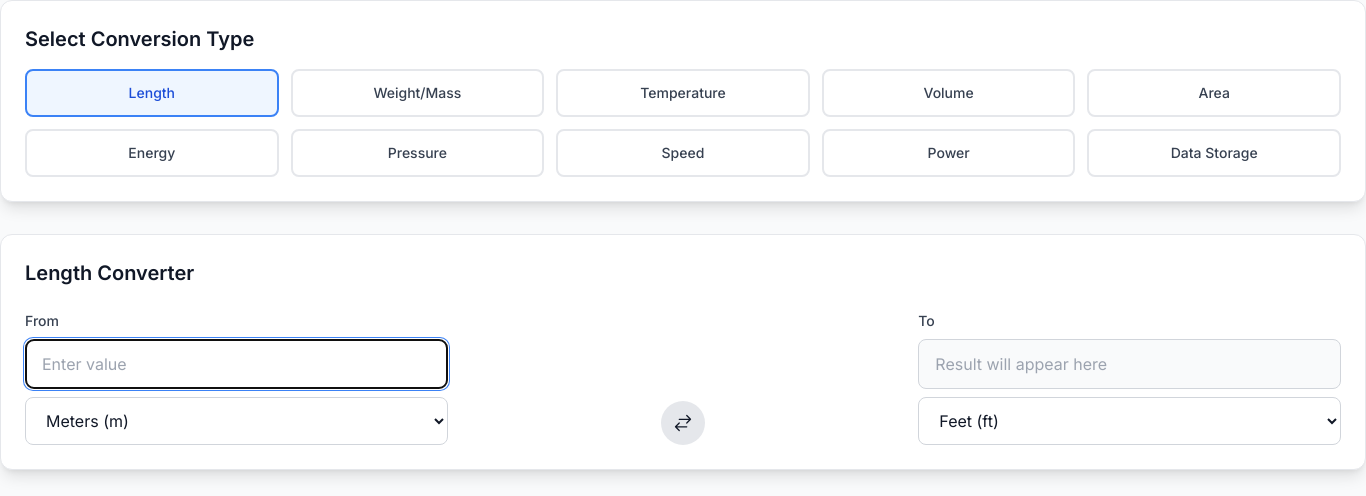
Scenario: UnitConverter Component › updates units when category changes
Switch to temperature category
Click the button "Temperature" at (683, 93), box 556,69 -> 810,117
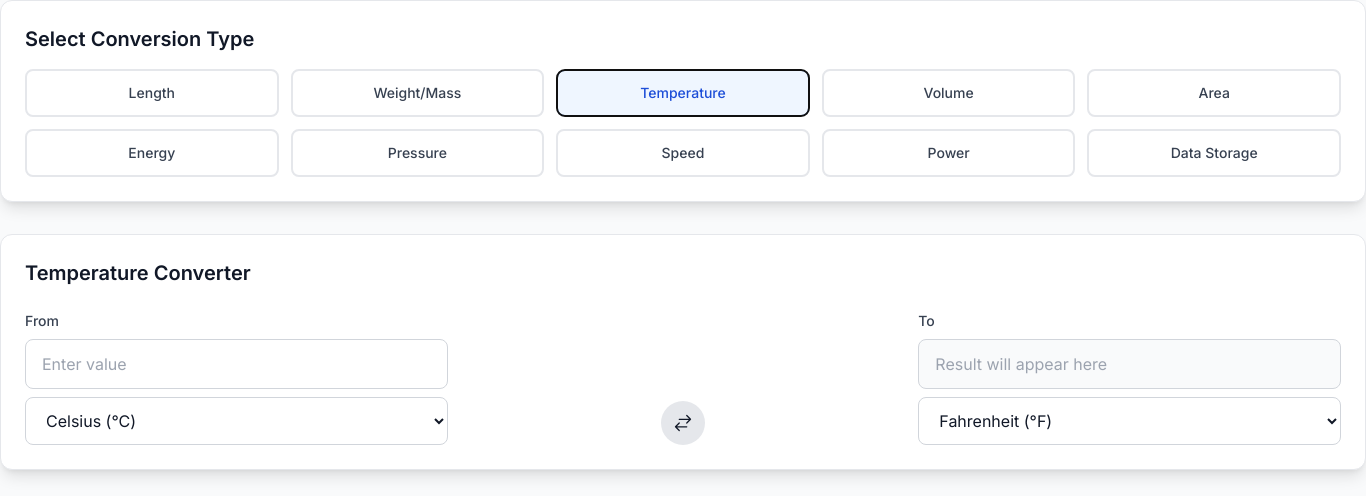
Result: the heading "Temperature Converter" is shown at 25,261 -> 251,285
Result: the dropdown below "From" shows "Celsius (°C)" at 25,397 -> 448,445
